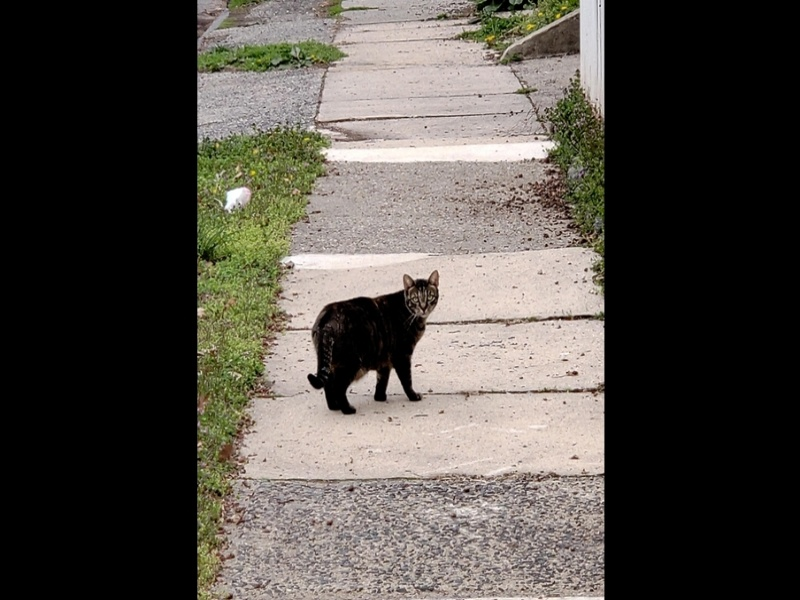cat: (311, 268, 442, 417)
